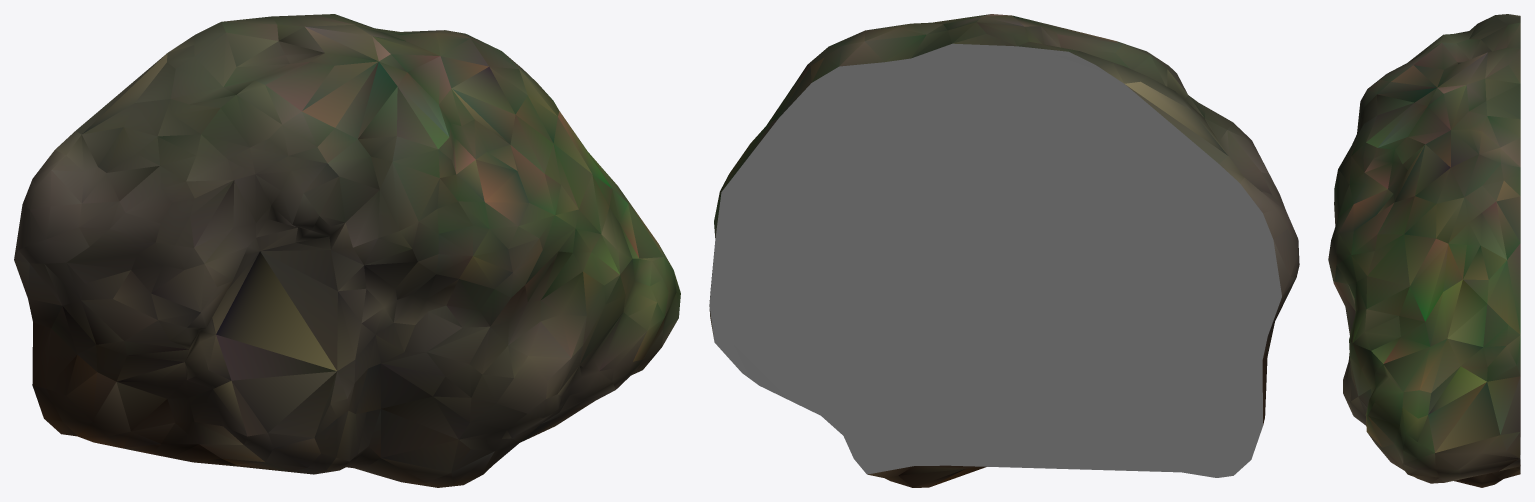
File: 114_Rock4.obj
3 views of the same model, side by side, from view 1: azimuth 30°, elevation 25°; view 2: azimuth 150°, elevation 25°; view 3: azimuth 270°, elevation 25° (orthographic). The views are drawn at different scales.
Bounding box in the file's own units: 51246 × 39307 × 17475.
